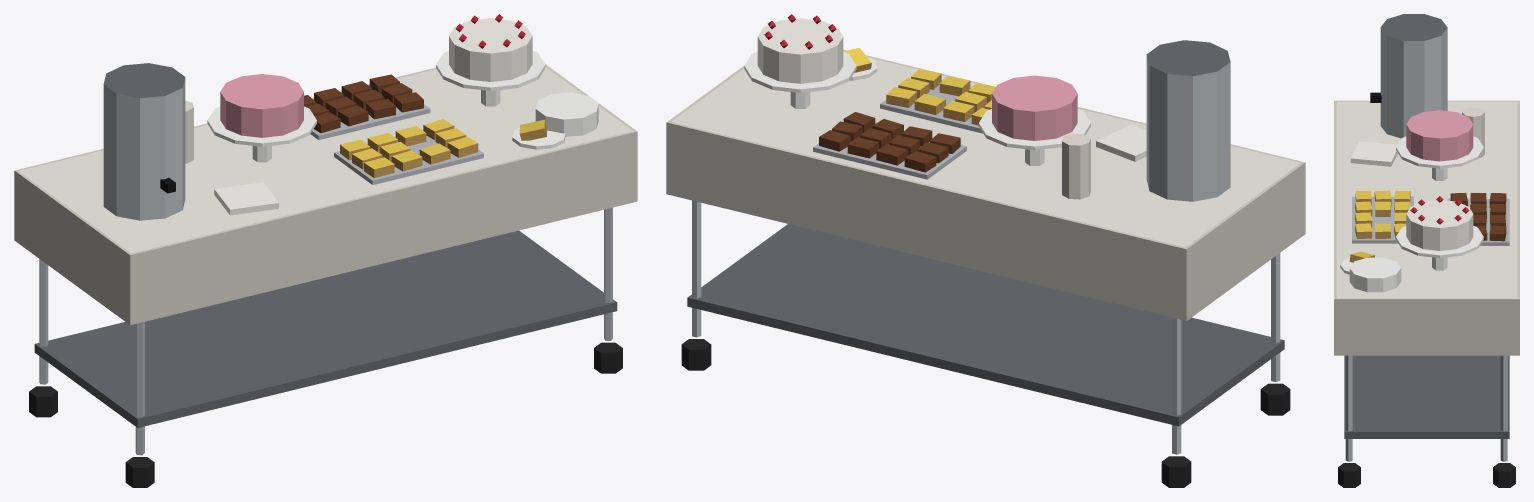
File: DessertCartPushed.obj
The picture shows the model from 3 angles, left to right: view 1: azimuth 30°, elevation 25°; view 2: azimuth 150°, elevation 25°; view 3: azimuth 270°, elevation 25°; orthographic projection. The views are drawn at different scales.
Visible parts, largest first — view 1: DessertCartPushed; view 2: DessertCartPushed; view 3: DessertCartPushed.
Boxes of the visible parts, left/top/right/bottom form: DessertCartPushed: left=14, top=14, right=637, bottom=487; DessertCartPushed: left=666, top=14, right=1305, bottom=487; DessertCartPushed: left=1334, top=14, right=1519, bottom=487.
Size of the model in its own units: 1.82 by 1.24 by 0.72.
1 material, 1 textured.
